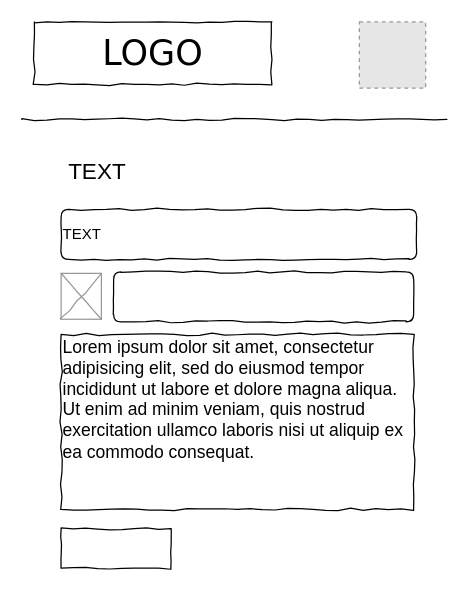
Image size: 469x590. Some labels were removed from this diagram. Grey dashed boxes stand in for pictures. Here are the shapes that lost their labels. From the top down, the box of each, then its label:
(112, 271, 414, 322): DATE
(60, 527, 171, 568): Button 1
